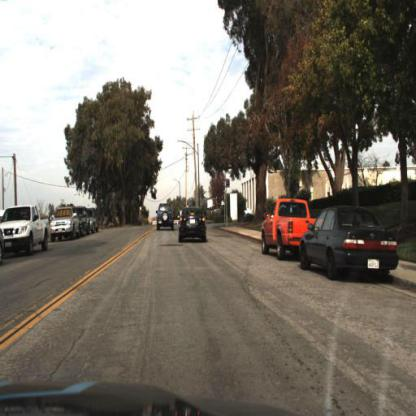car: (293, 188, 400, 300), (249, 185, 304, 267), (1, 199, 52, 263), (1, 203, 48, 260), (173, 201, 212, 247), (46, 204, 82, 245), (177, 204, 208, 244), (152, 198, 175, 236), (76, 198, 90, 238), (78, 204, 92, 240), (89, 202, 100, 238), (242, 201, 257, 222)
